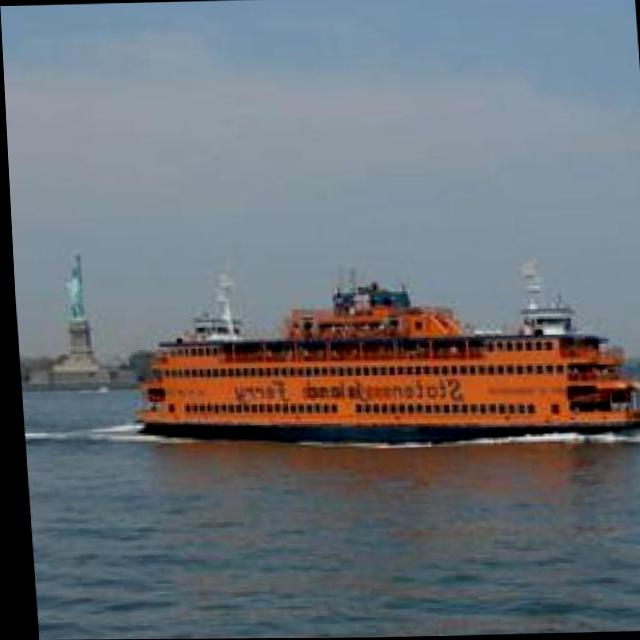ship2: (129, 254, 640, 445)
